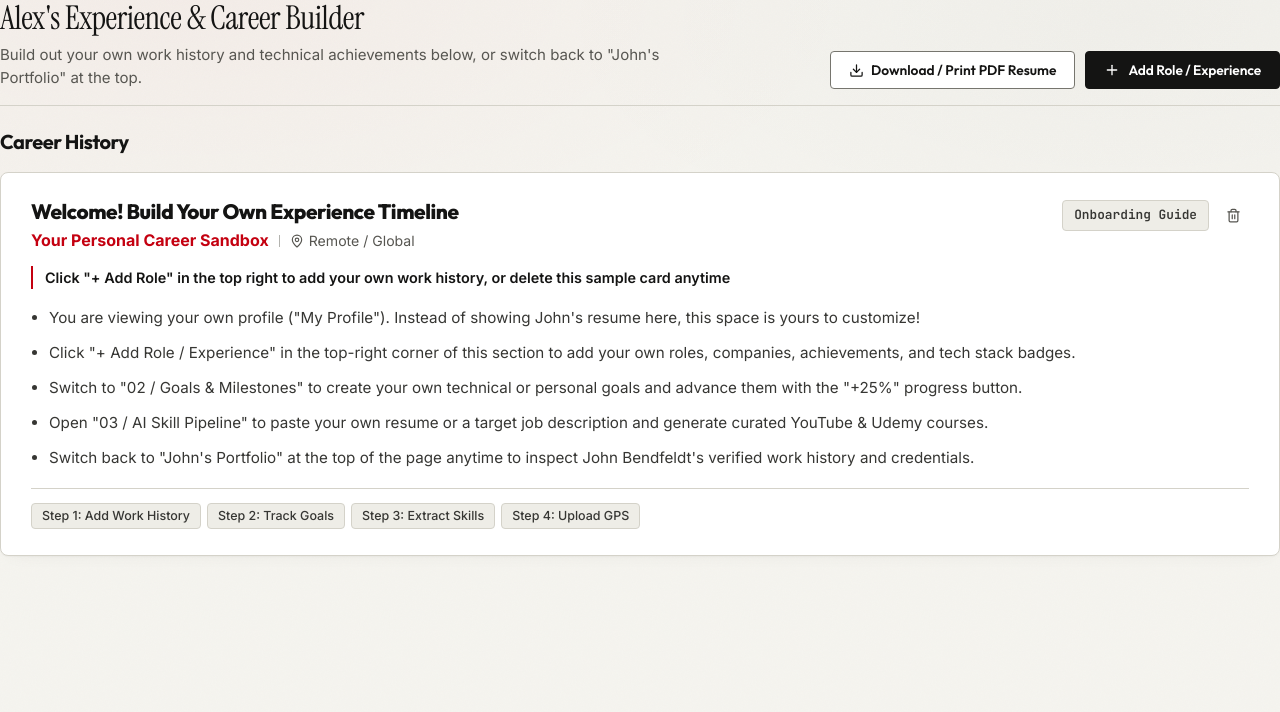
Test: UI Components, Modals & Sanitization Boundaries › VerifiedDeployments & ResumeTimeline › renders portfolio timeline and allows adding/removing roles in personal mode
Click the button "Add Role / Experience" at (1183, 70), box [1085,51,1279,89]
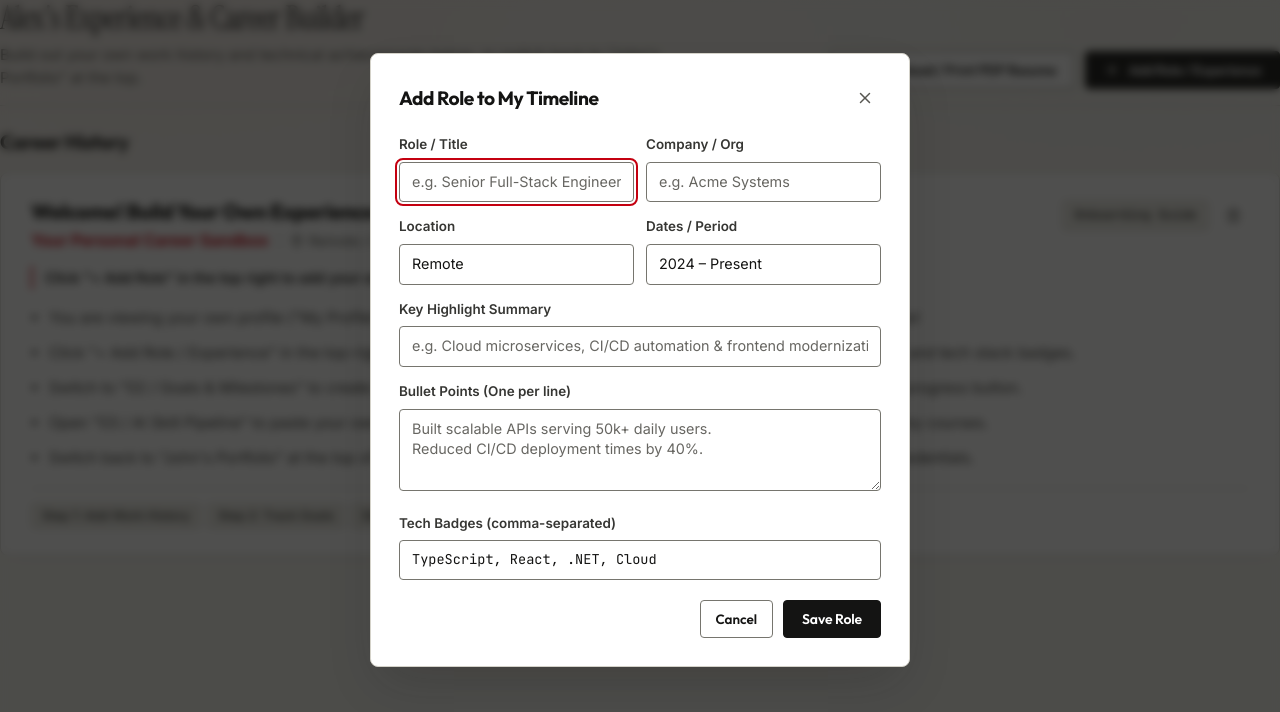
Type "Staff Cloud Architect" into the field with placeholder "e.g. Senior Full-Stack Engineer" at (516, 182), box [399,162,634,202]
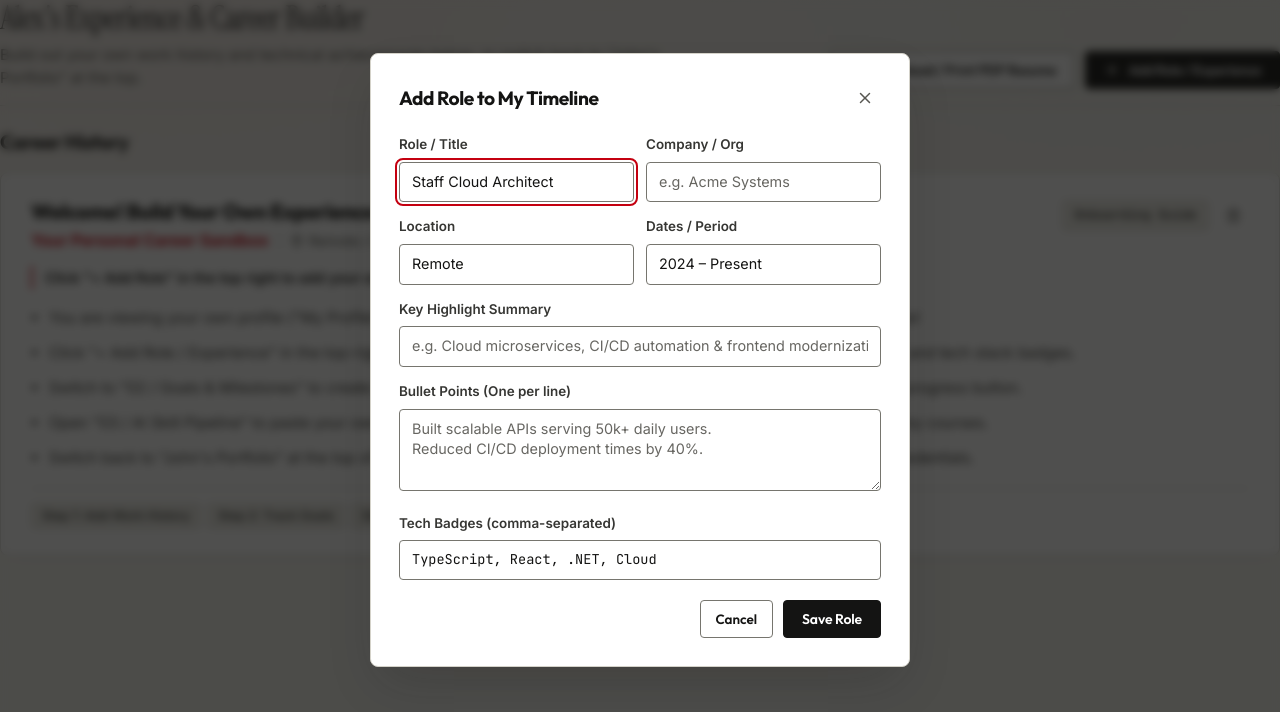
Type "Nebula Corp" into the field with placeholder "e.g. Acme Systems" at (764, 182), box [646,162,881,202]
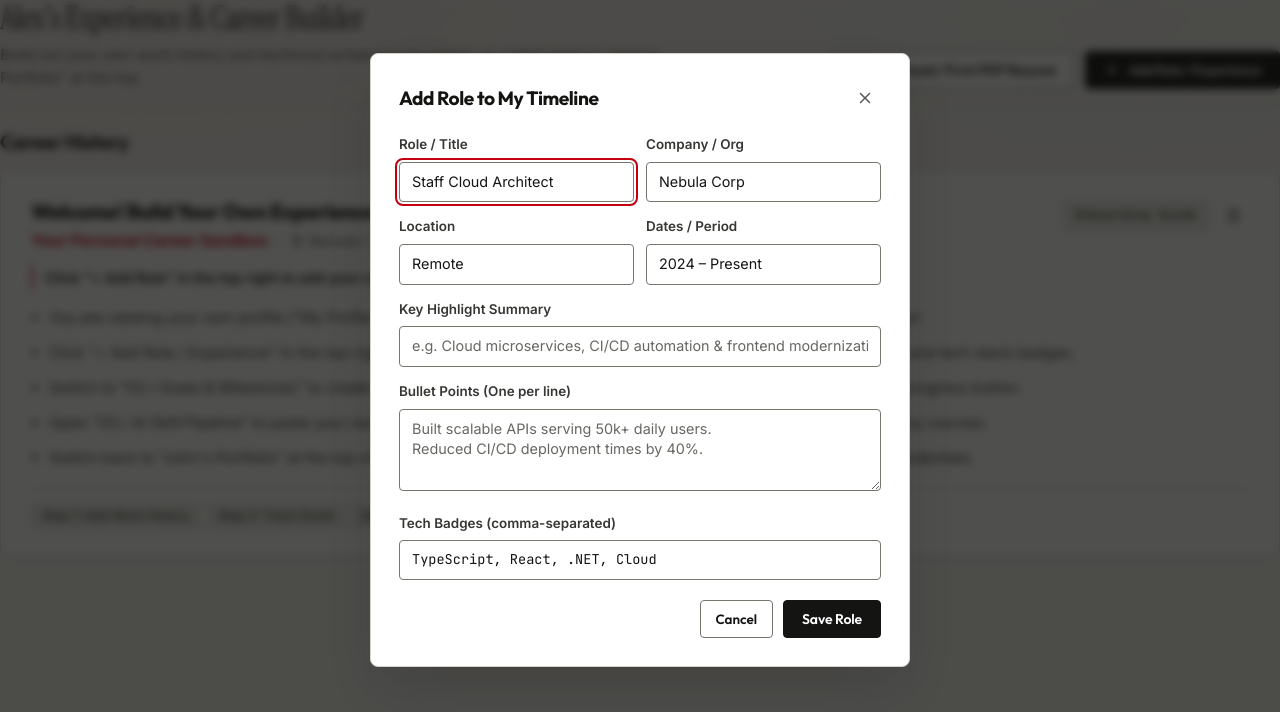
Click the button "Save Role" at (832, 619), box [783,600,881,638]
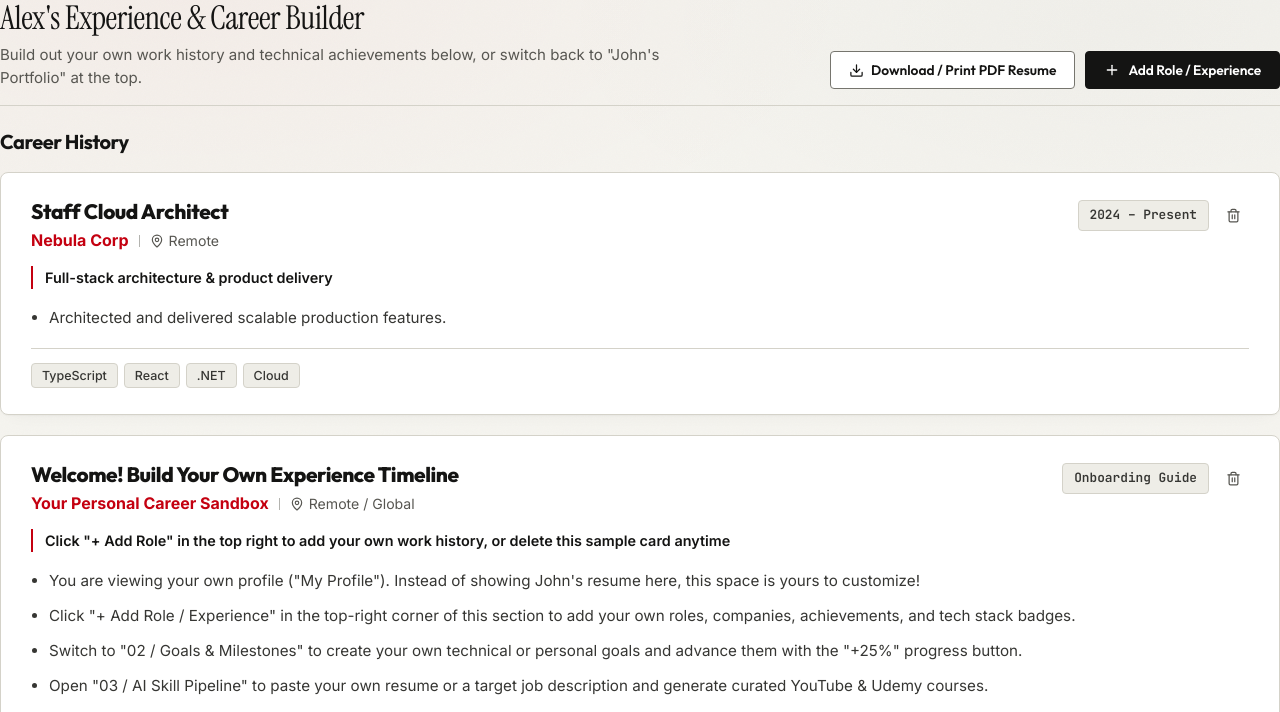
Expected: the heading "Staff Cloud Architect" is shown, [31,199,228,224]
Expected: the text "Nebula Corp" is shown, [31,228,129,254]
Click the button titled "Delete role" at (1233, 215), box [1217,199,1249,231]
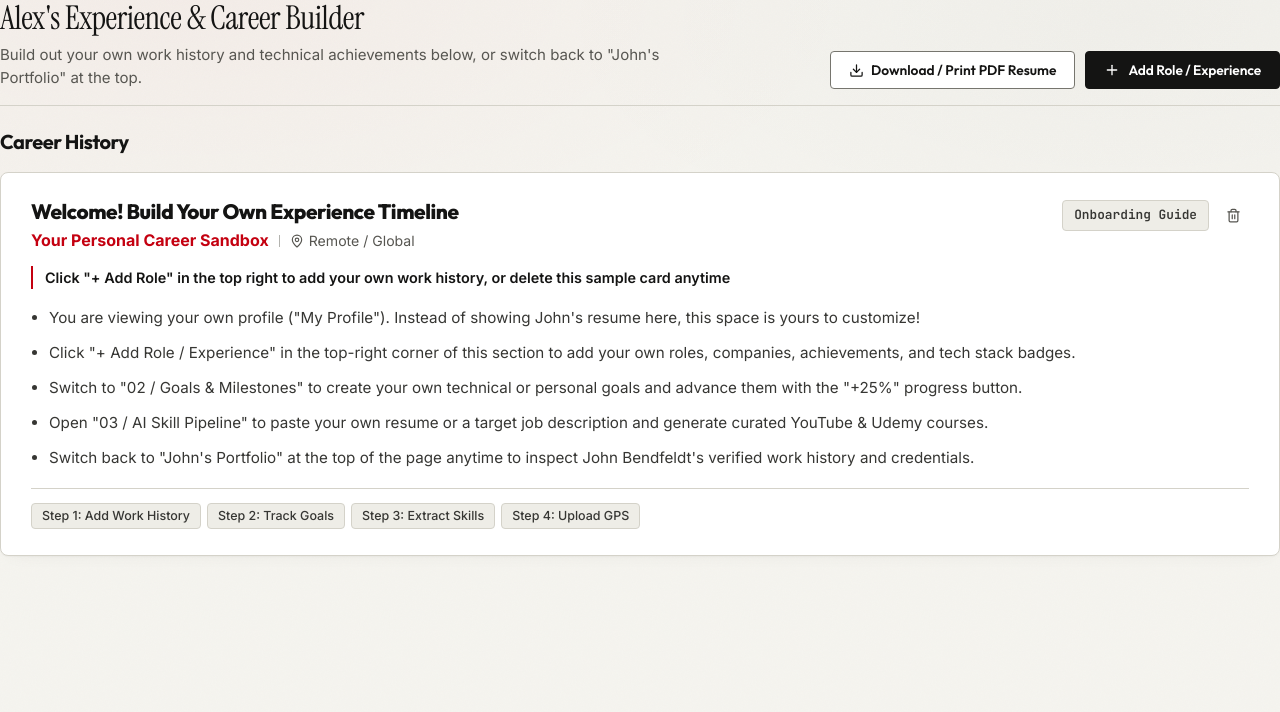
Expected: the heading "Staff Cloud Architect" is gone
